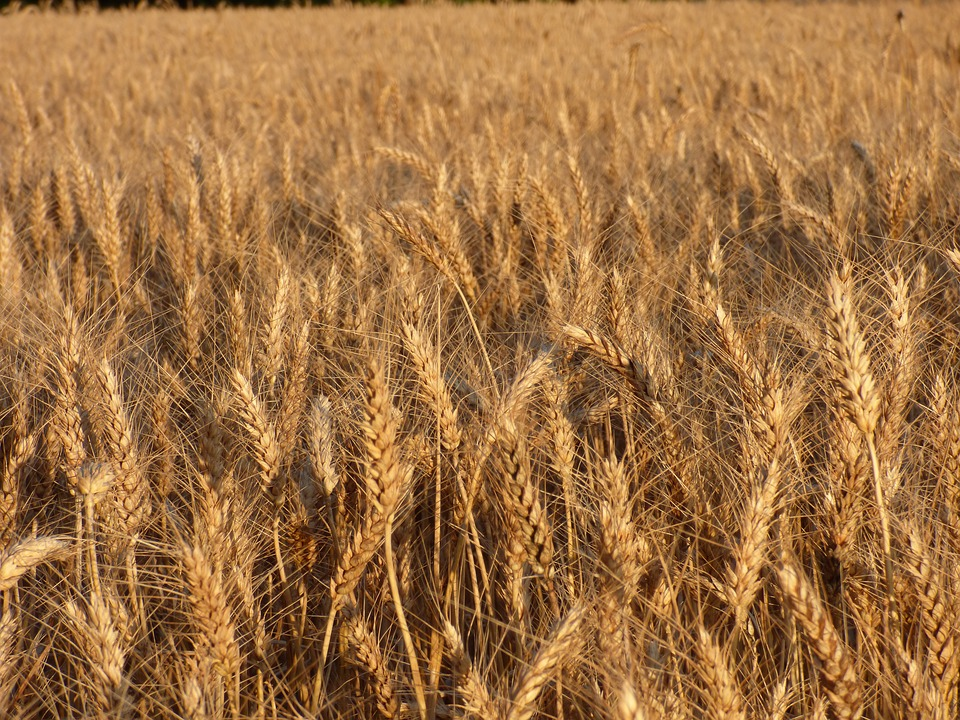Wheat: (150, 261, 850, 650)
